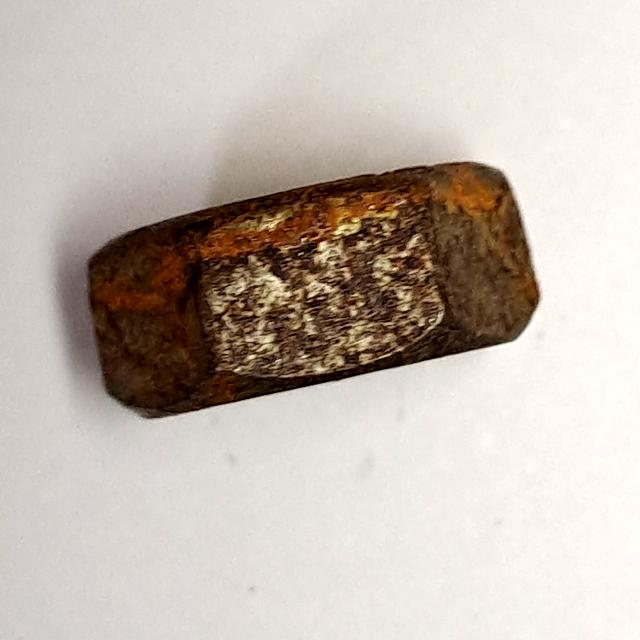Side_Rust: (74, 154, 558, 435)
